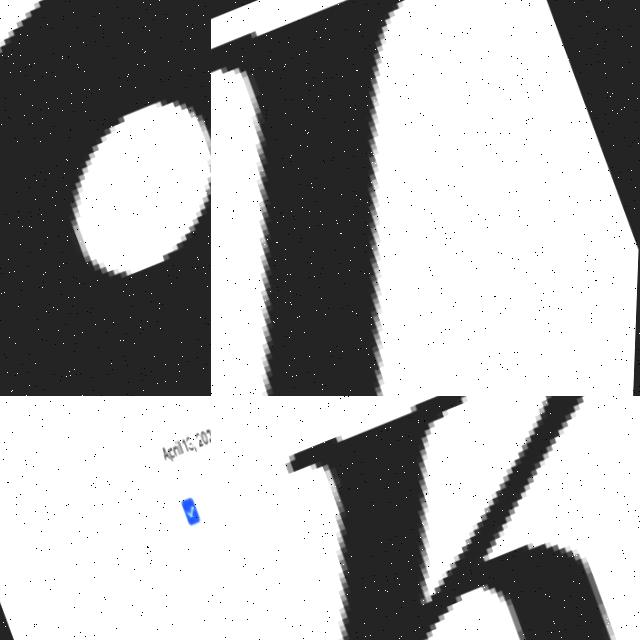0: (199, 428, 211, 445)
1: (182, 438, 191, 452)
2: (195, 431, 206, 446), (204, 426, 211, 443)
3: (186, 434, 198, 452)
I: (211, 0, 414, 396)
K: (211, 396, 640, 640)
Q: (0, 0, 211, 396)
